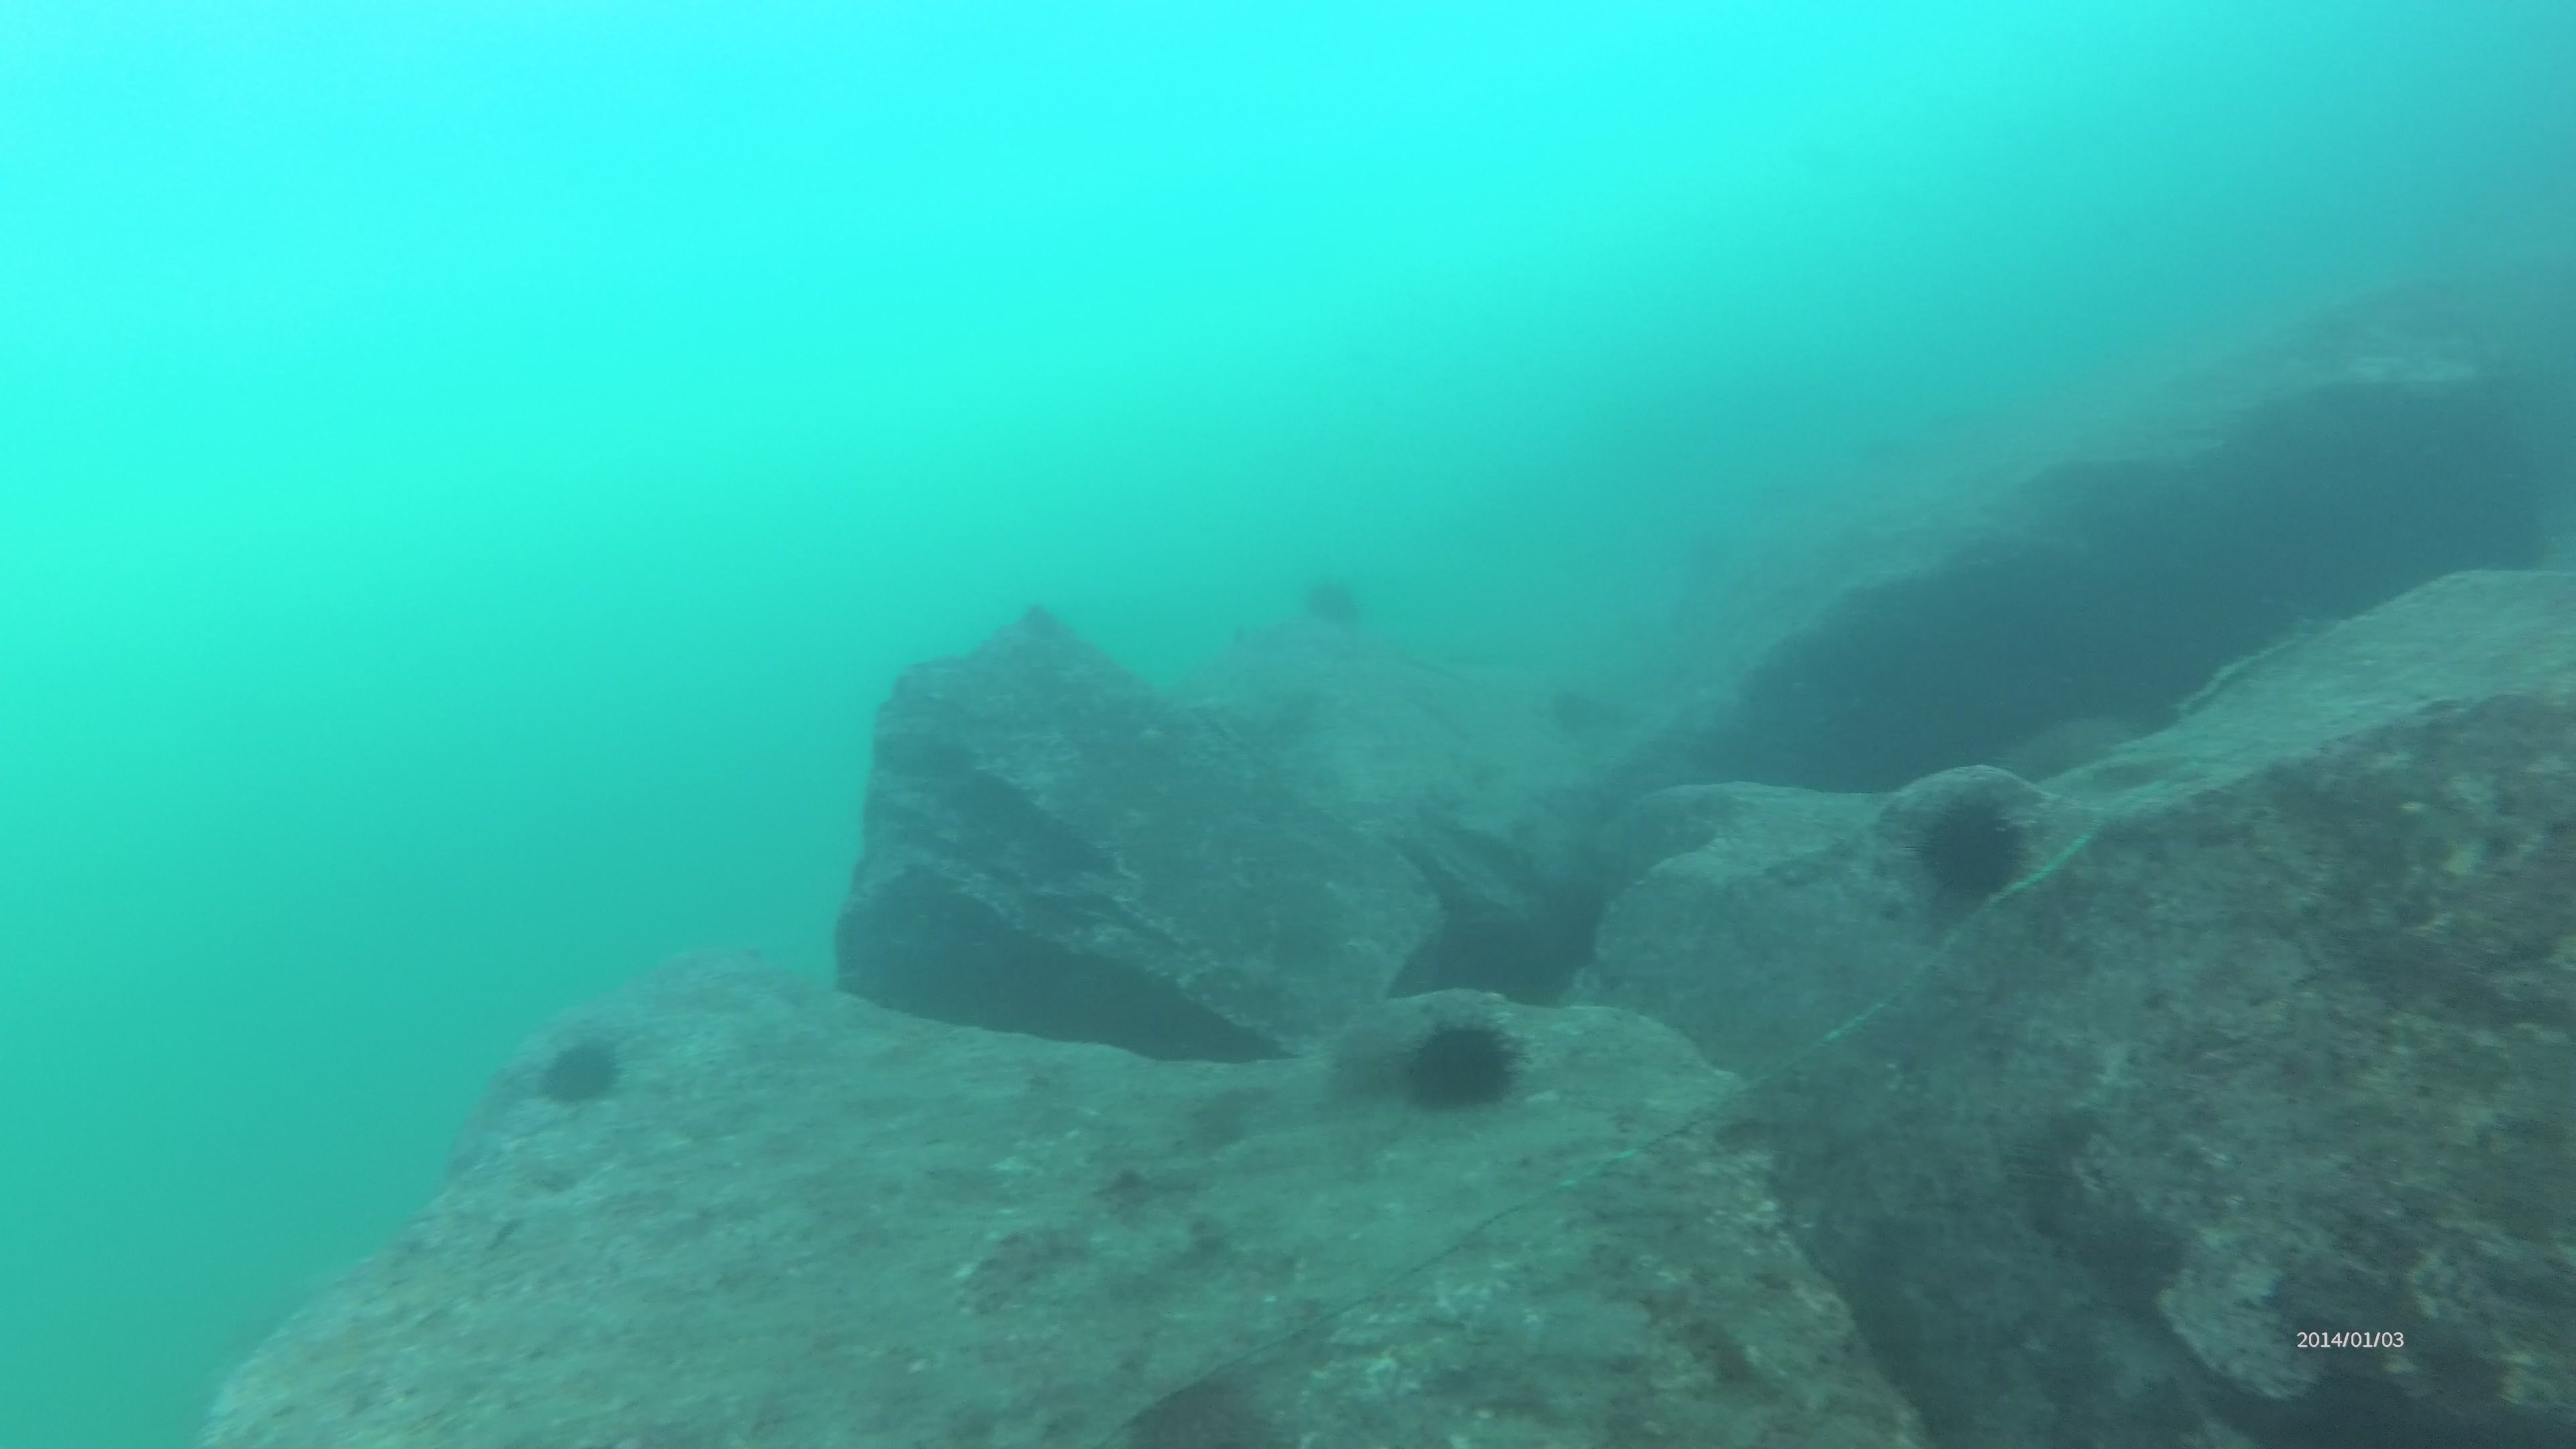echinus: (1902, 782, 2038, 911), (1392, 1008, 1529, 1122), (529, 1024, 632, 1113), (1295, 566, 1371, 635)
